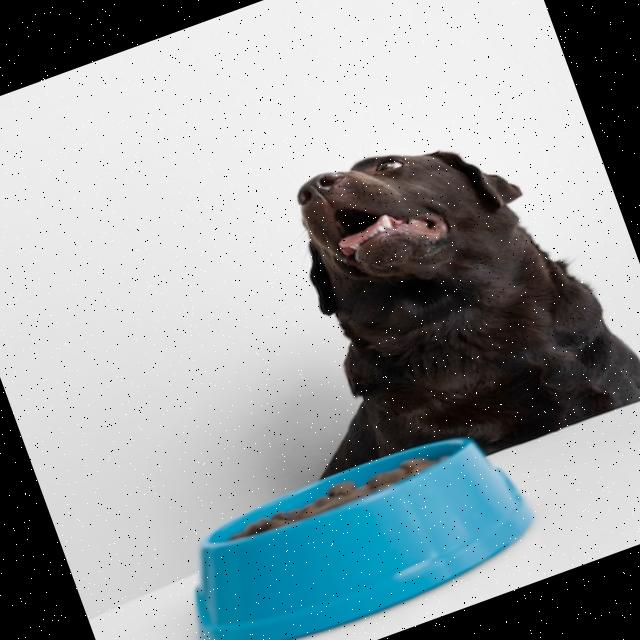Dog: (220, 91, 640, 516)
